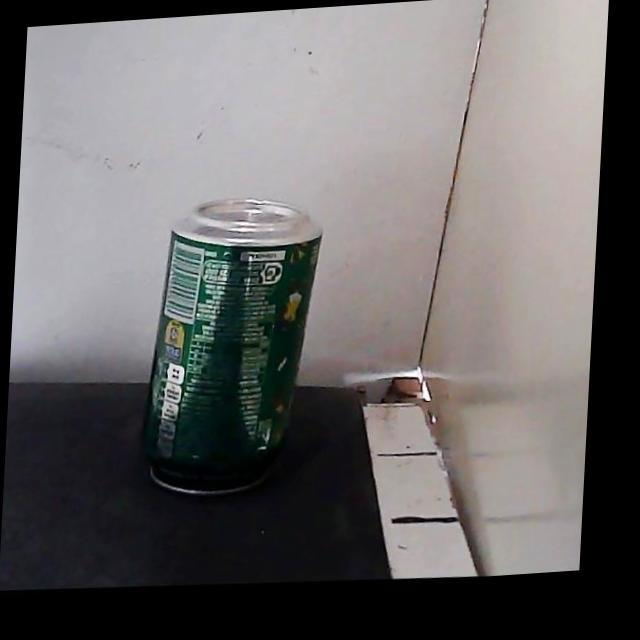metal: (144, 199, 321, 494)
